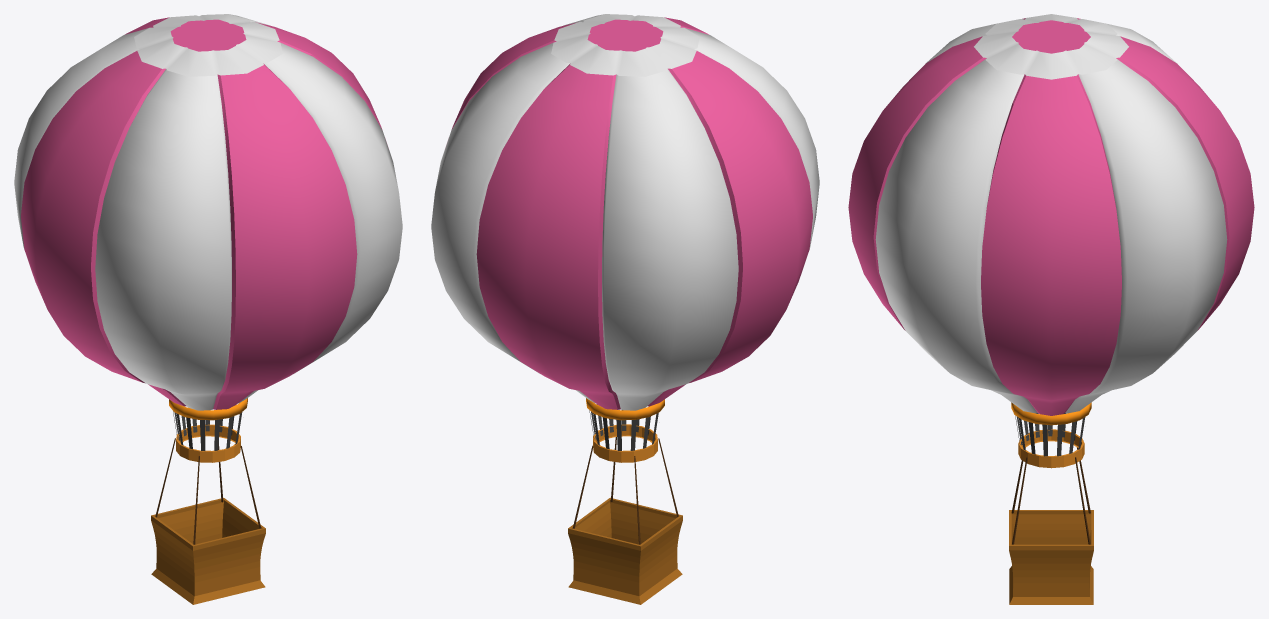
Rendered from Hot Air Balloon.fbx.
The picture shows the model from 3 angles, left to right: view 1: azimuth 30°, elevation 25°; view 2: azimuth 150°, elevation 25°; view 3: azimuth 270°, elevation 25°; orthographic projection.
Visible parts, largest first — view 1: Sphere.004, Sphere.003, Cube, Sphere.001, Cylinder, Sphere.002, Cylinder.001; view 2: Sphere.004, Sphere.003, Cube, Sphere.001, Cylinder, Sphere.002, Cylinder.001; view 3: Sphere.004, Sphere.003, Cube, Sphere.001, Cylinder, Sphere.002, Cylinder.001.
Part boxes in pixels (left/top/right/bottom): Sphere.004: left=14, top=14, right=402, bottom=410; Sphere.003: left=21, top=17, right=382, bottom=409; Cube: left=151, top=497, right=265, bottom=604; Sphere.001: left=176, top=424, right=240, bottom=462; Cylinder: left=173, top=411, right=242, bottom=450; Sphere.002: left=169, top=398, right=247, bottom=420; Cylinder.001: left=155, top=438, right=261, bottom=544; Sphere.004: left=431, top=14, right=819, bottom=410; Sphere.003: left=451, top=17, right=812, bottom=409; Cube: left=568, top=497, right=682, bottom=604; Sphere.001: left=593, top=424, right=657, bottom=462; Cylinder: left=589, top=404, right=658, bottom=450; Sphere.002: left=586, top=398, right=664, bottom=420; Cylinder.001: left=572, top=437, right=678, bottom=544; Sphere.004: left=875, top=14, right=1227, bottom=413; Sphere.003: left=848, top=18, right=1254, bottom=415; Cube: left=1009, top=510, right=1093, bottom=604; Sphere.001: left=1018, top=429, right=1084, bottom=468; Cylinder: left=1015, top=413, right=1085, bottom=456; Sphere.002: left=1011, top=402, right=1091, bottom=425; Cylinder.001: left=1011, top=447, right=1090, bottom=544.
Size of the model in its own units: 212 by 316 by 212.
